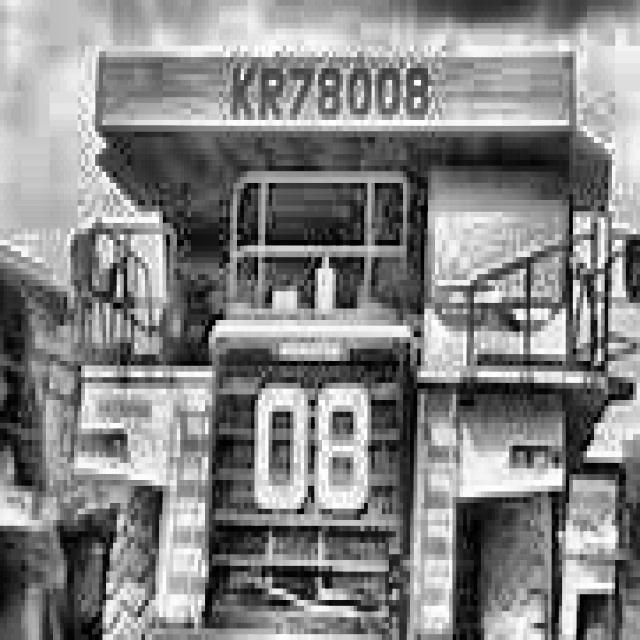dump_truck: (81, 11, 605, 640)
